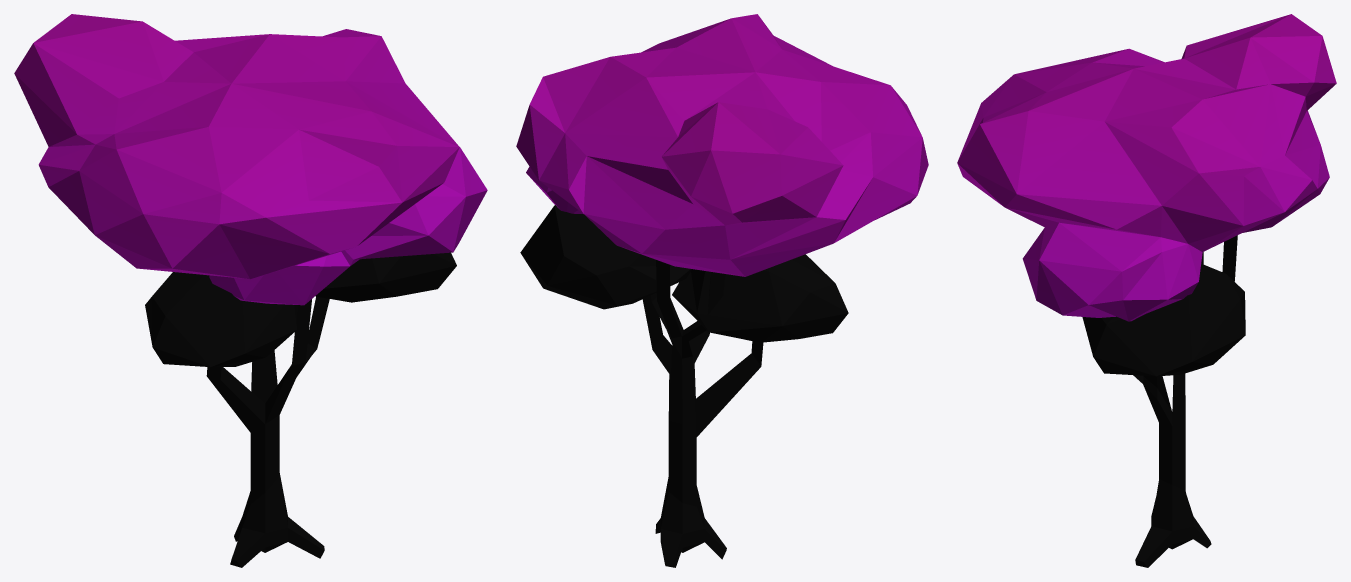
The model's file is SM_Env_Tree_02.glb.
3 views of the same model, side by side, from view 1: azimuth 30°, elevation 25°; view 2: azimuth 150°, elevation 25°; view 3: azimuth 270°, elevation 25° (orthographic). The views are drawn at different scales.
Parts seen in each view (by area): view 1: SM_Env_Tree_02; view 2: SM_Env_Tree_02; view 3: SM_Env_Tree_02.
Boxes of the visible parts, x1=… form: SM_Env_Tree_02: x1=14, y1=14, x2=487, y2=567; SM_Env_Tree_02: x1=516, y1=14, x2=928, y2=567; SM_Env_Tree_02: x1=957, y1=14, x2=1336, y2=567.
Bounding box in the file's own units: 5.8 × 7.5 × 5.42.
